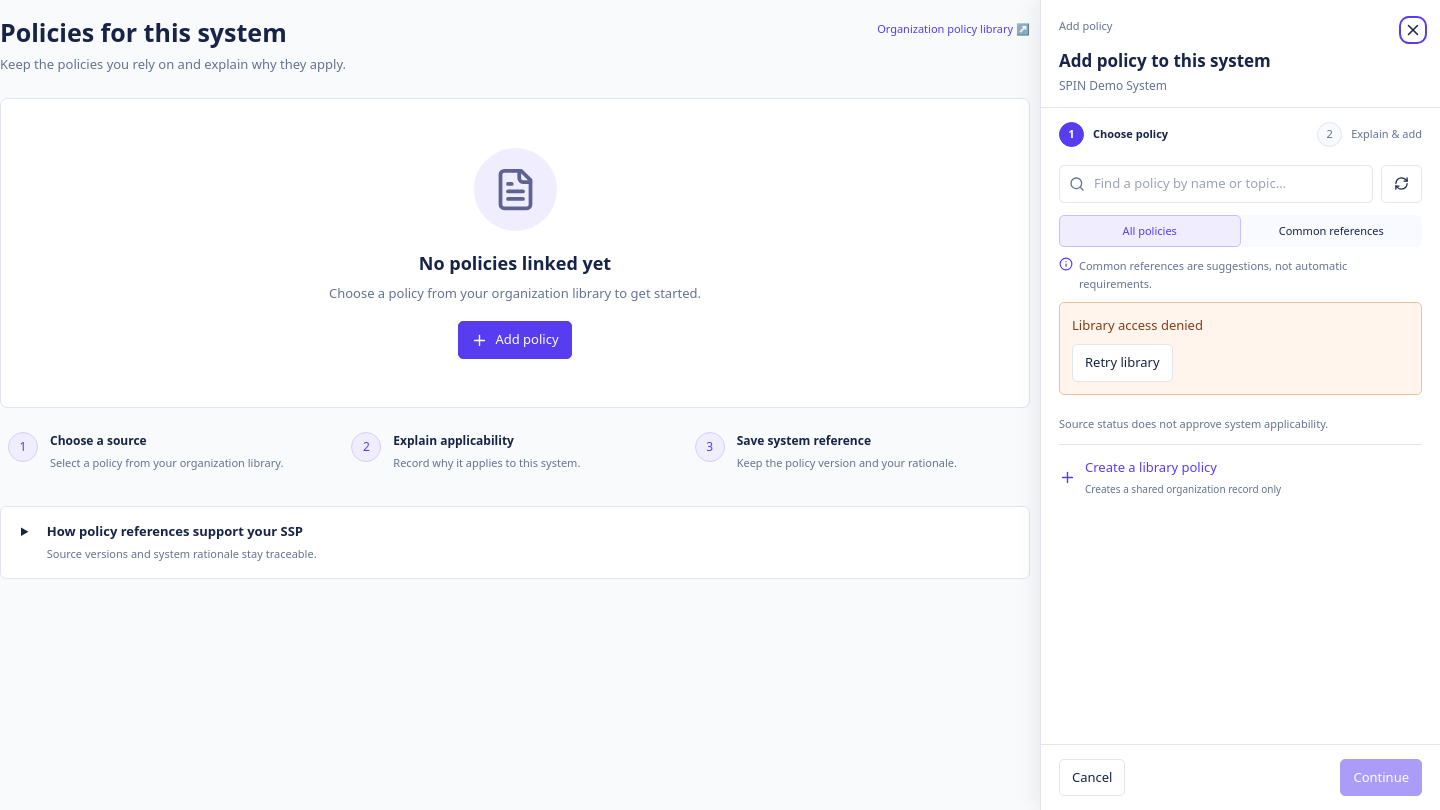
Test case: System policy workspace › shows library failure and retry instead of an empty library
Expected: the message shows "Library access denied", [1072, 316, 1203, 334]
Click the button "Retry library" at [1122, 363], box [1072, 344, 1173, 382]
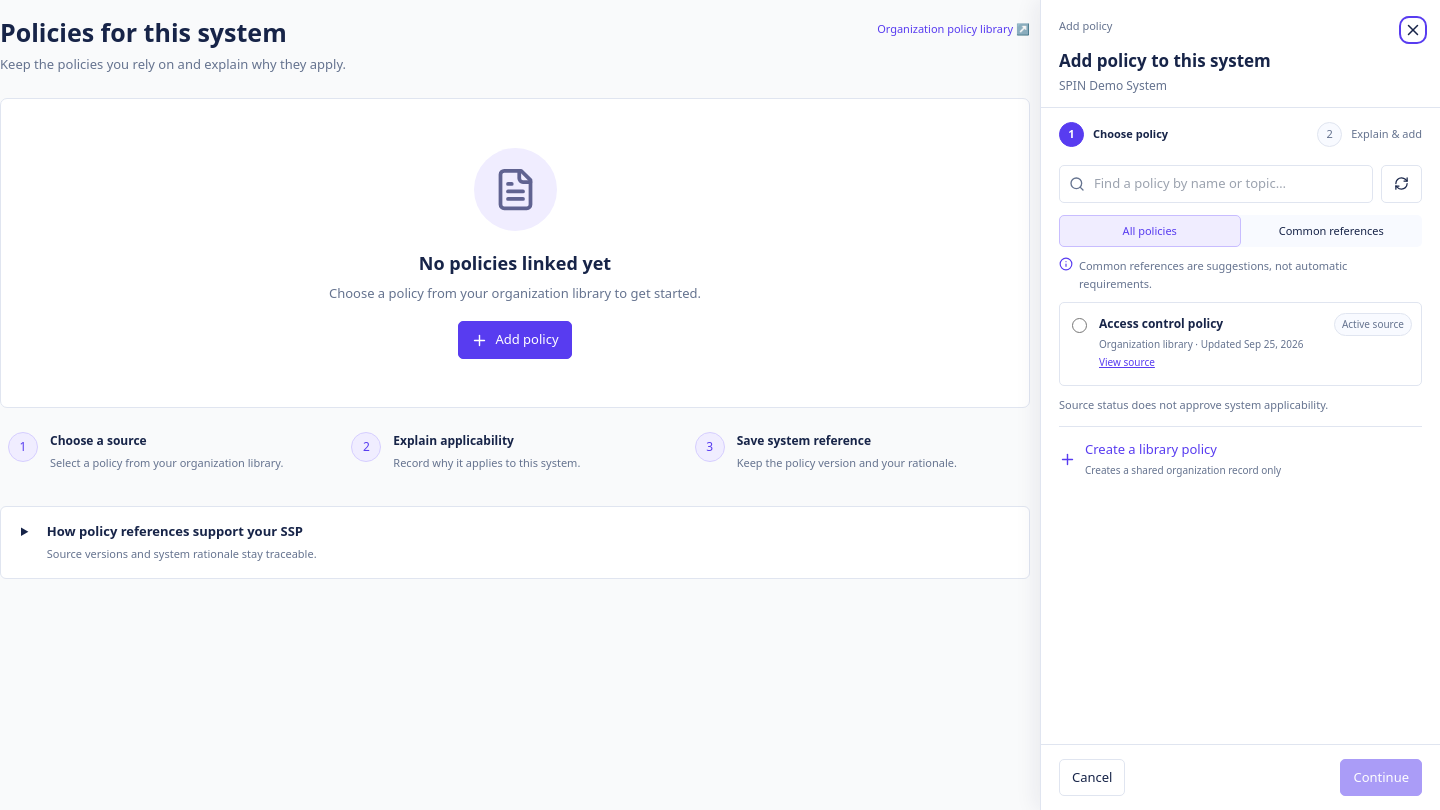
Expected: the radio button labelled "Access control policy" is shown, [1072, 318, 1087, 333]
